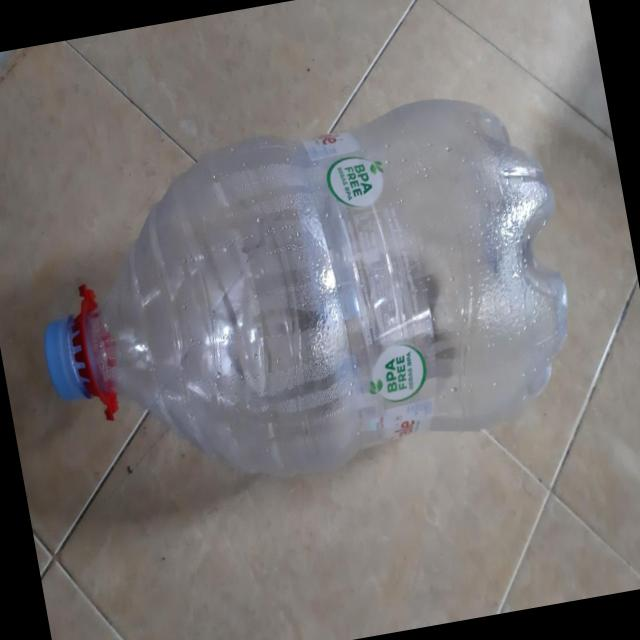Galon: (12, 77, 594, 517)
